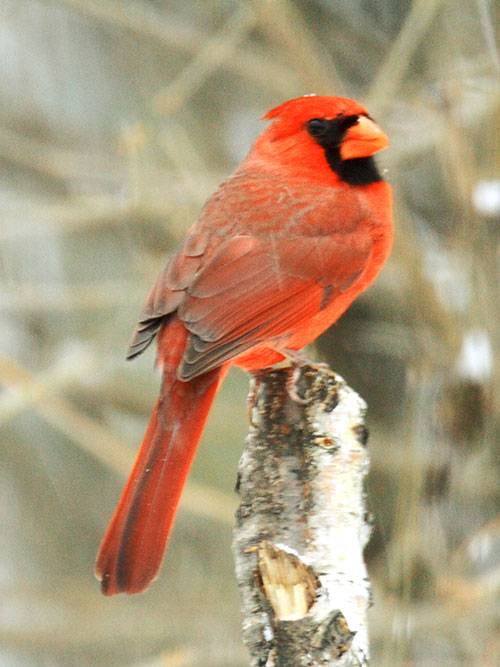bird: (120, 99, 386, 476)
